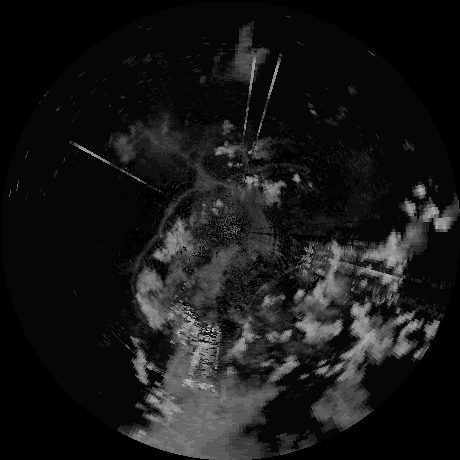frontgust: (161, 189, 193, 235), (133, 238, 156, 293), (220, 164, 277, 182)
